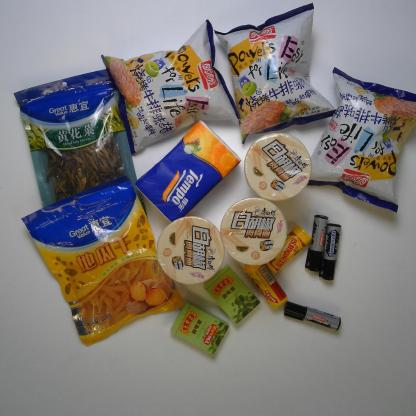Candy: (166, 299, 228, 359), (204, 268, 258, 325), (245, 264, 293, 312), (268, 225, 308, 274)
Dried Food: (16, 67, 146, 219)
Dried Fruit: (24, 181, 176, 340)
Instant Noodles: (245, 126, 309, 204), (219, 198, 291, 267), (160, 218, 228, 284)
Puffed Food: (99, 22, 240, 148), (214, 2, 336, 131), (306, 64, 411, 204)
Stationery: (283, 299, 349, 340), (320, 223, 348, 282), (306, 213, 326, 274)
Tissue: (136, 119, 239, 219)
